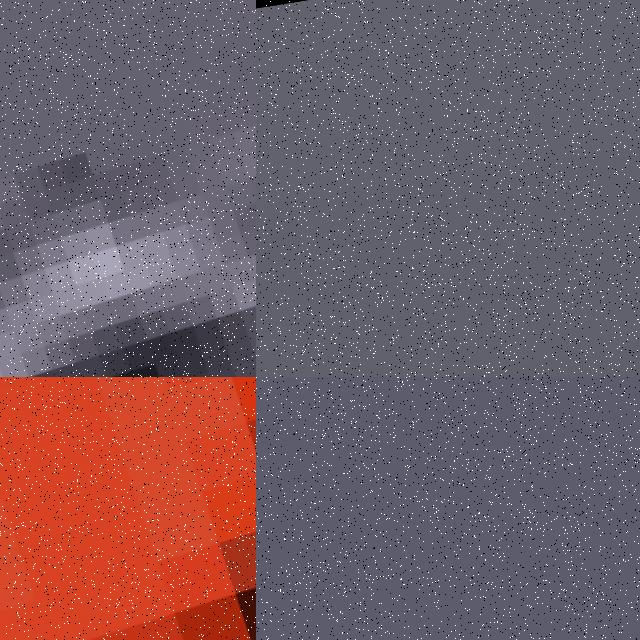0: (0, 0, 256, 377)
drone: (0, 377, 256, 640)
